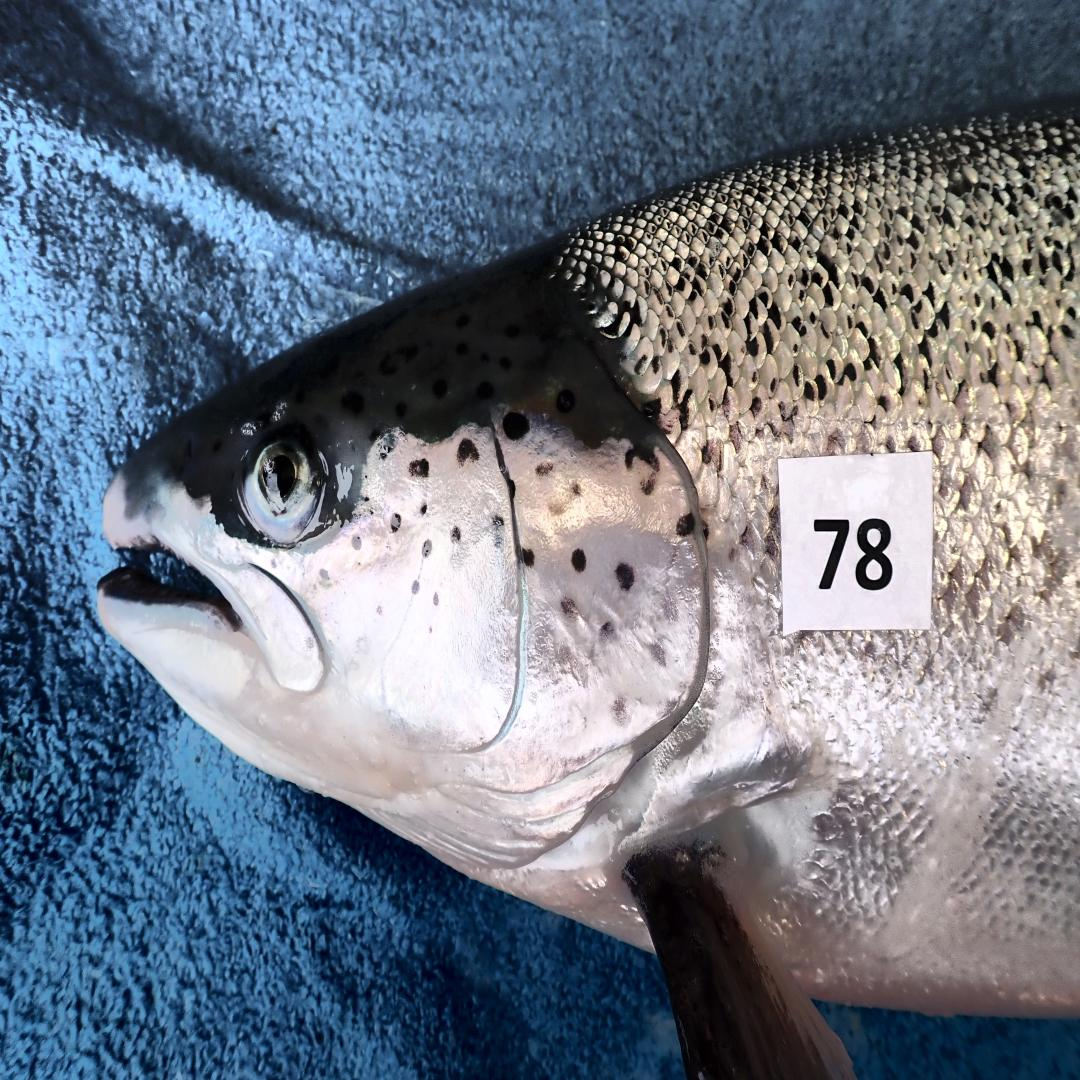spot: (624, 445, 660, 473), (502, 411, 529, 439), (456, 439, 479, 464), (616, 562, 635, 591), (675, 512, 696, 536), (408, 456, 429, 478), (640, 471, 657, 495), (493, 517, 505, 550), (612, 698, 626, 723), (650, 644, 664, 668), (572, 548, 586, 571), (599, 621, 615, 641), (521, 548, 535, 568), (560, 598, 575, 616), (535, 463, 553, 477), (382, 434, 395, 453), (391, 513, 401, 534), (570, 482, 582, 499), (450, 526, 461, 544), (422, 540, 432, 557), (319, 568, 329, 582), (352, 536, 361, 551), (420, 500, 427, 515), (412, 581, 419, 594), (433, 592, 439, 606), (378, 452, 386, 460), (376, 606, 382, 616), (428, 626, 432, 634), (364, 496, 369, 502)
